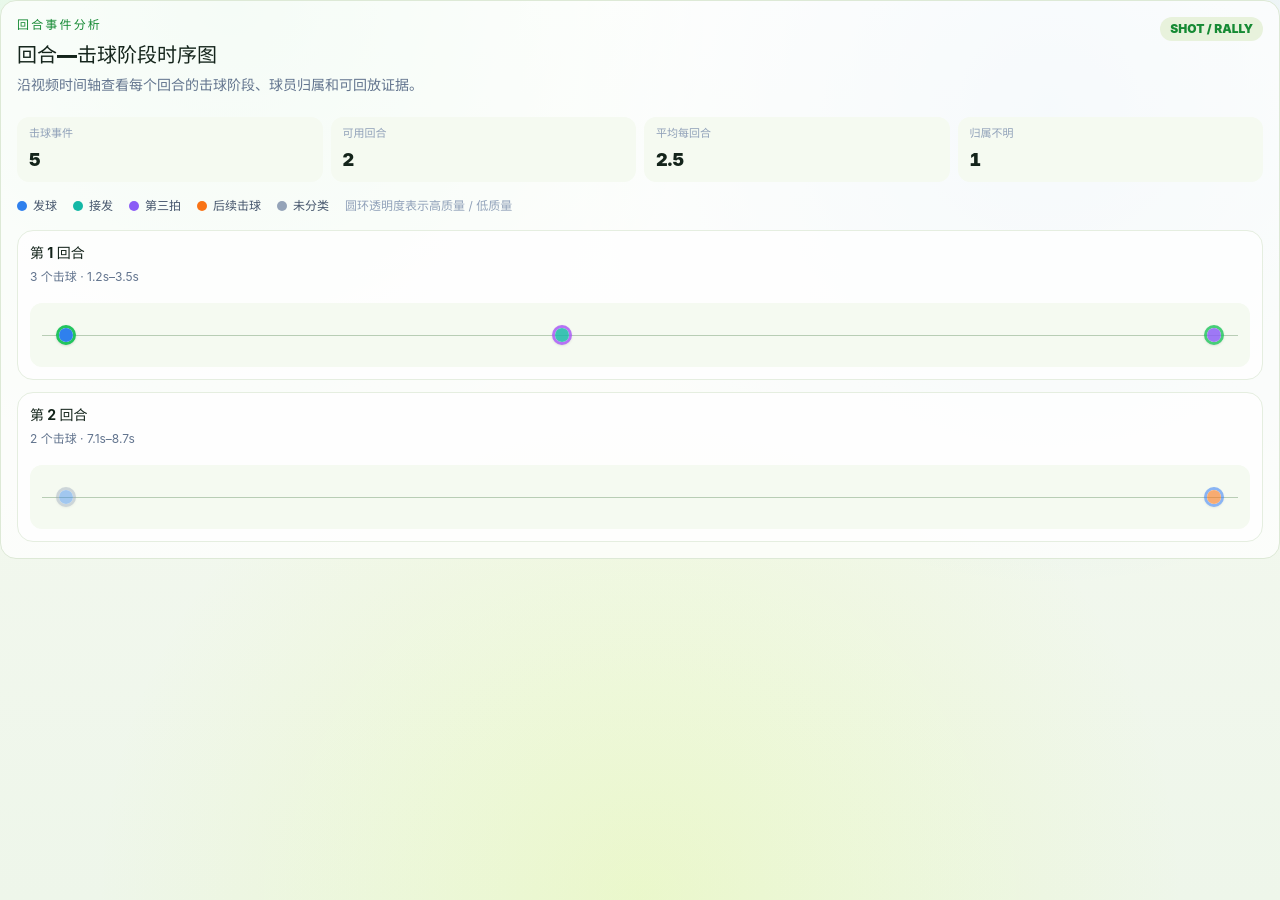
Test: RallyShotTimeline › 按权威回合分行并展示阶段、摘要和事件详情
Check: the heading "回合—击球阶段时序图" is shown, box [17, 43, 217, 67]
Check: the text "第 1 回合" is shown, box [30, 244, 85, 260]
Click the button named "shot-001": (66, 334) [52, 320, 80, 348]
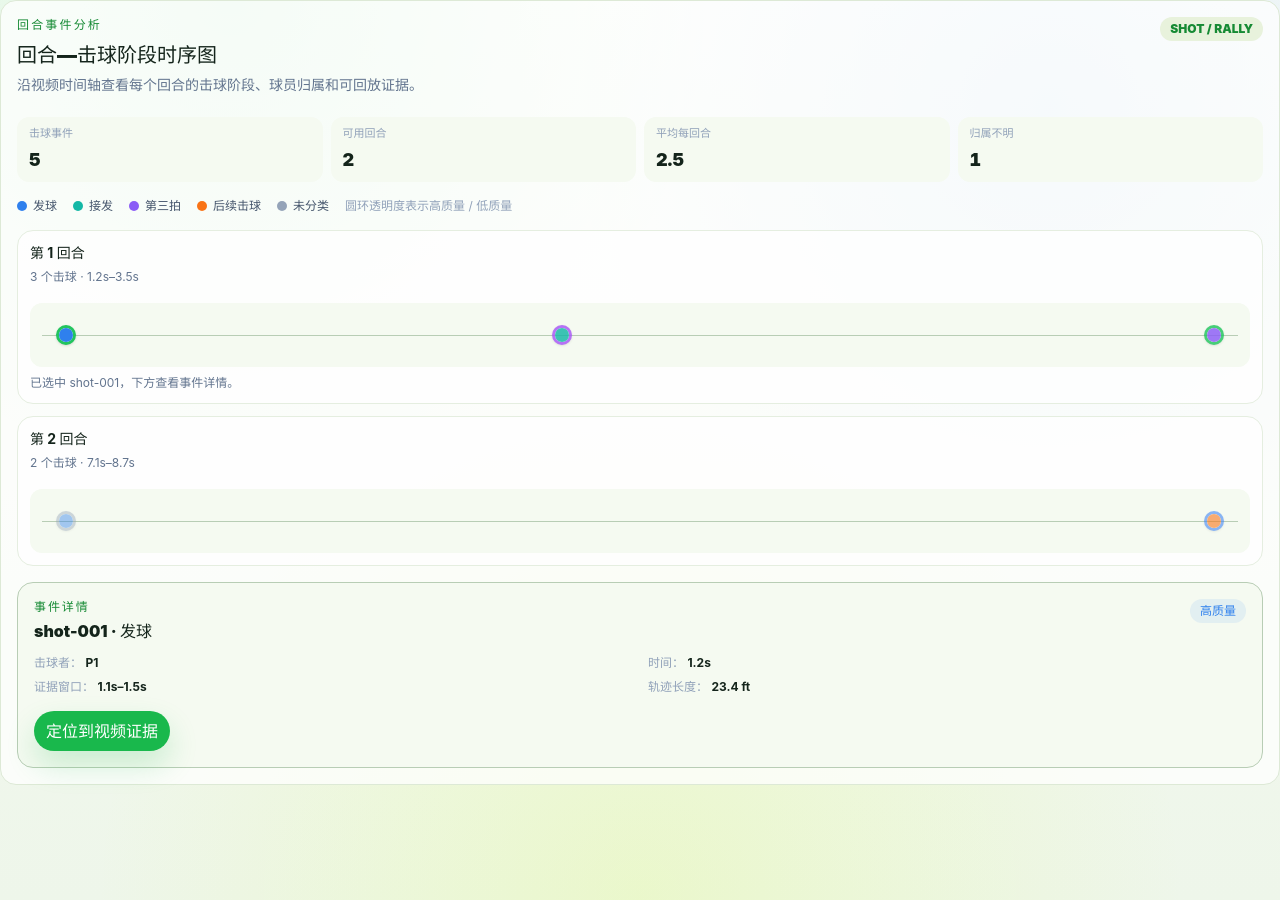
Check: the element with test id "rally-shot-details" is shown, box [17, 582, 1263, 768]
Check: the text "证据窗口：" is shown, box [34, 678, 94, 694]
